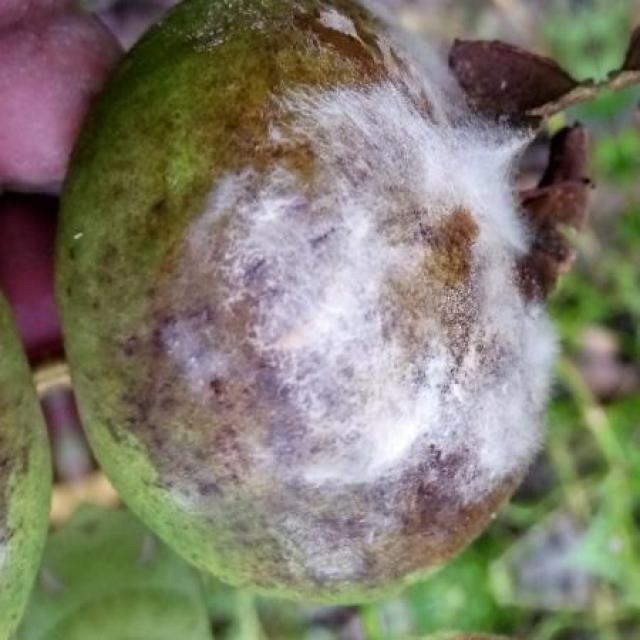Phytopthora: (58, 0, 561, 599)
